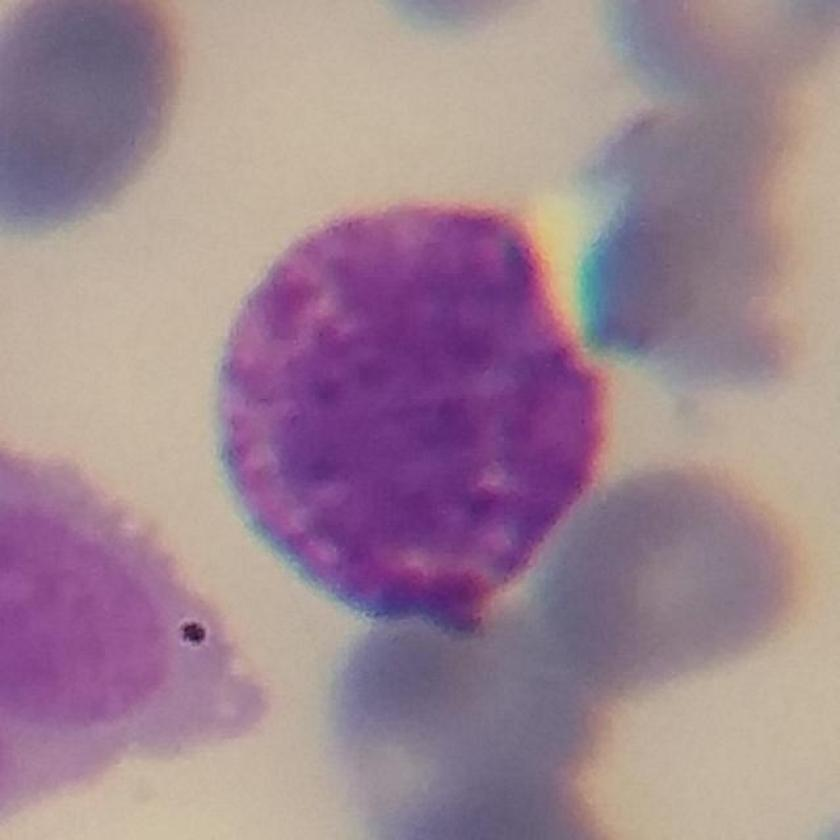basophil: (211, 187, 645, 639)
